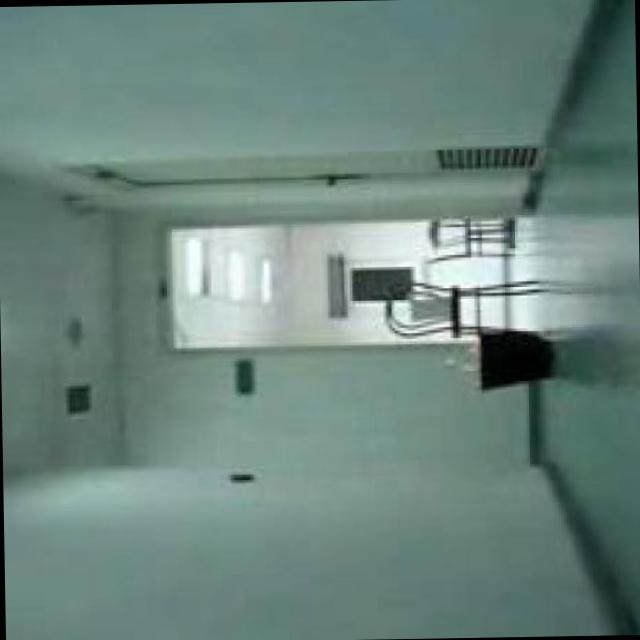Fire: (441, 357, 481, 376)
